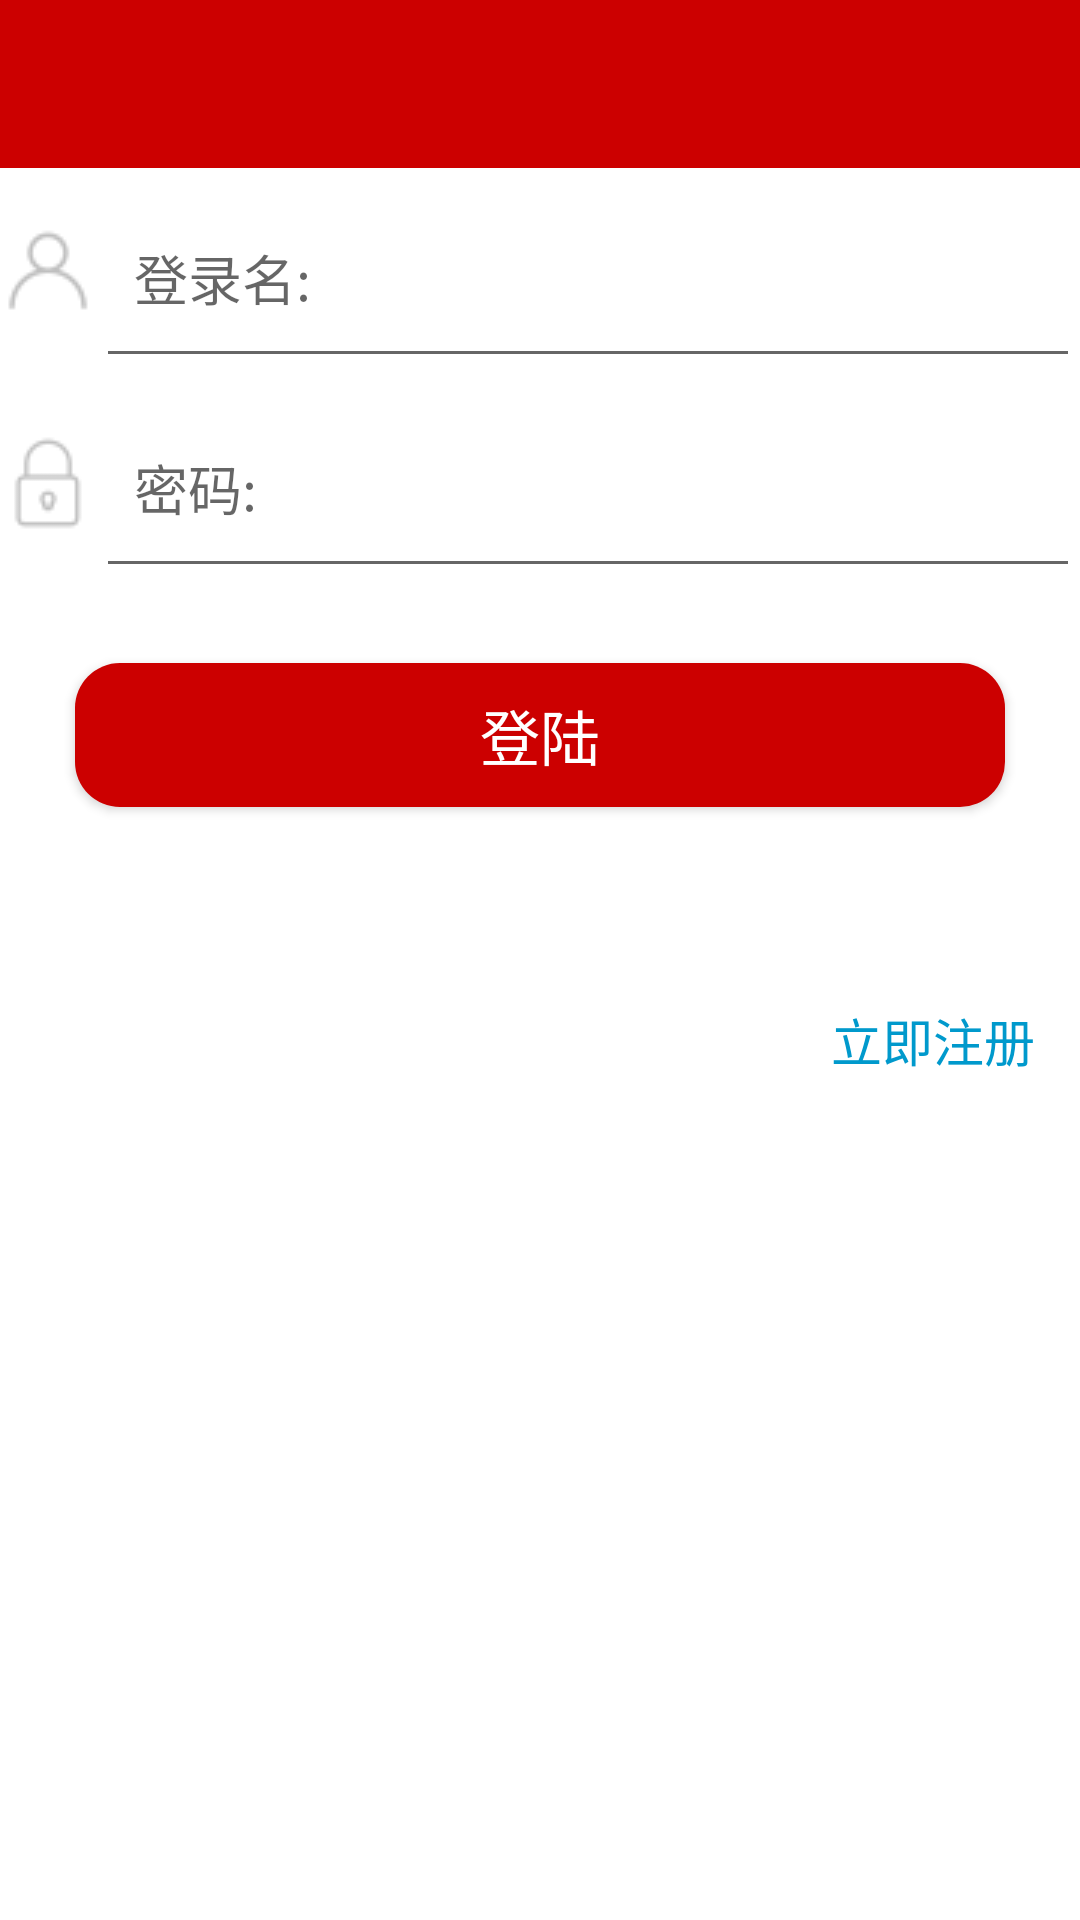

Icons on this 1080px x 1920px Android screen, each with its box as (x1, y1, x2, y2):
account: (9, 232, 87, 309)
